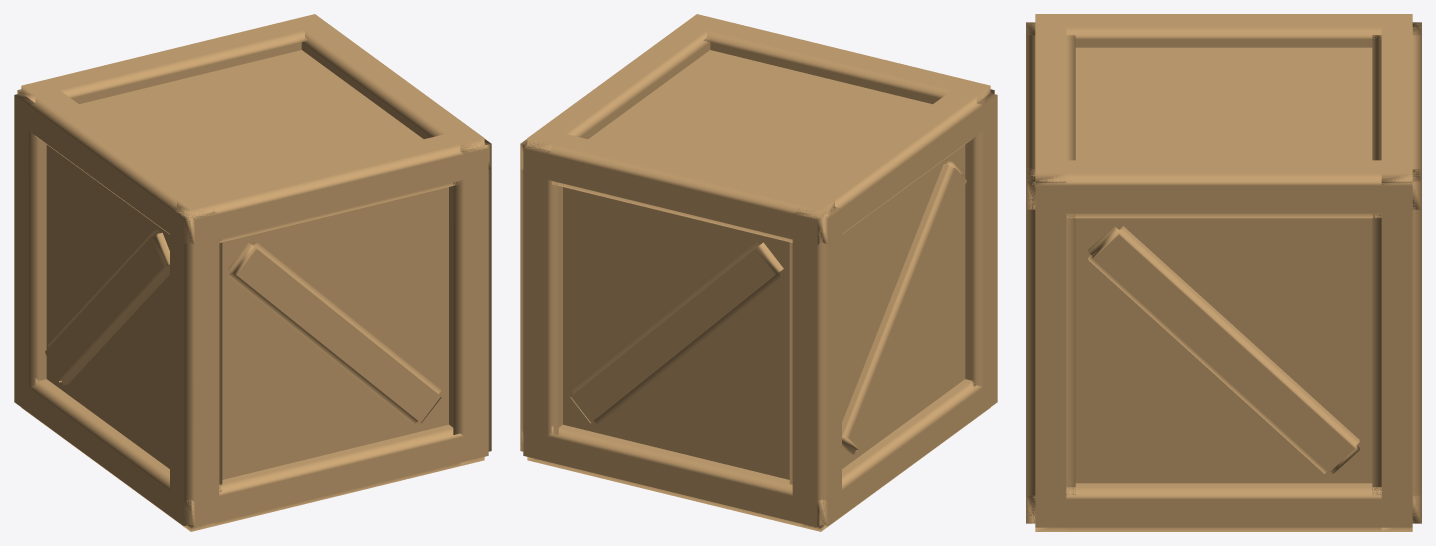
File: wood_crate_bevel.glb
3 views of the same model, side by side, from view 1: azimuth 30°, elevation 25°; view 2: azimuth 150°, elevation 25°; view 3: azimuth 270°, elevation 25° (orthographic). The views are drawn at different scales.
Visible parts, largest first — view 1: CoreBox, Edge_0_-0.56_0.56, Edge_2_-0.56_-0.56, Edge_0_-0.56_-0.56, Edge_2_0.56_-0.56, Brace_0_-0.58, Edge_1_-0.56_0.56, Edge_0_0.56_0.56, Edge_2_-0.56_0.56, Edge_1_-0.56_-0.56, Brace_-0.58_0, Edge_1_0.56_0.56; view 2: CoreBox, Edge_0_0.56_0.56, Edge_2_-0.56_0.56, Edge_0_0.56_-0.56, Edge_2_0.56_0.56, Brace_0_0.58, Edge_1_-0.56_0.56, Edge_0_-0.56_0.56, Edge_2_-0.56_-0.56, Brace_-0.58_0, Edge_1_0.56_0.56, Edge_1_-0.56_-0.56; view 3: CoreBox, Edge_1_0.56_0.56, Edge_1_0.56_-0.56, Brace_0.58_0, Edge_2_0.56_0.56, Edge_2_0.56_-0.56, Edge_1_-0.56_0.56, Edge_0_0.56_0.56, Edge_0_-0.56_0.56, Edge_0_-0.56_-0.56, Edge_0_0.56_-0.56.
Boxes of the visible parts, x1,y1,x2,y2 form: CoreBox: [46, 50, 448, 479]; Edge_0_-0.56_0.56: [170, 128, 491, 245]; Edge_2_-0.56_-0.56: [170, 194, 222, 530]; Edge_0_-0.56_-0.56: [170, 424, 488, 531]; Edge_2_0.56_-0.56: [447, 129, 491, 454]; Brace_0_-0.58: [228, 241, 441, 424]; Edge_1_-0.56_0.56: [14, 80, 218, 242]; Edge_0_0.56_0.56: [17, 14, 327, 104]; Edge_2_-0.56_0.56: [14, 80, 46, 410]; Edge_1_-0.56_-0.56: [14, 377, 218, 531]; Brace_-0.58_0: [45, 230, 169, 385]; Edge_1_0.56_0.56: [292, 14, 489, 171]; CoreBox: [563, 50, 965, 479]; Edge_0_0.56_0.56: [520, 128, 841, 245]; Edge_2_-0.56_0.56: [789, 193, 841, 530]; Edge_0_0.56_-0.56: [523, 424, 841, 531]; Edge_2_0.56_0.56: [520, 128, 564, 451]; Brace_0_0.58: [570, 241, 783, 424]; Edge_1_-0.56_0.56: [793, 80, 994, 239]; Edge_0_-0.56_0.56: [684, 14, 997, 129]; Edge_2_-0.56_-0.56: [965, 80, 997, 410]; Brace_-0.58_0: [842, 161, 966, 454]; Edge_1_0.56_0.56: [520, 14, 720, 178]; Edge_1_-0.56_-0.56: [793, 379, 997, 531]; CoreBox: [1075, 47, 1372, 483]; Edge_1_0.56_0.56: [1026, 160, 1421, 218]; Edge_1_0.56_-0.56: [1026, 483, 1412, 531]; Brace_0.58_0: [1088, 226, 1359, 473]; Edge_2_0.56_0.56: [1372, 169, 1421, 523]; Edge_2_0.56_-0.56: [1026, 169, 1075, 523]; Edge_1_-0.56_0.56: [1028, 14, 1412, 47]; Edge_0_0.56_0.56: [1372, 14, 1421, 213]; Edge_0_-0.56_0.56: [1026, 14, 1075, 213]; Edge_0_-0.56_-0.56: [1026, 495, 1066, 531]; Edge_0_0.56_-0.56: [1381, 495, 1421, 531].
Bounding box in the file's own units: 1.28 × 1.28 × 1.28.
